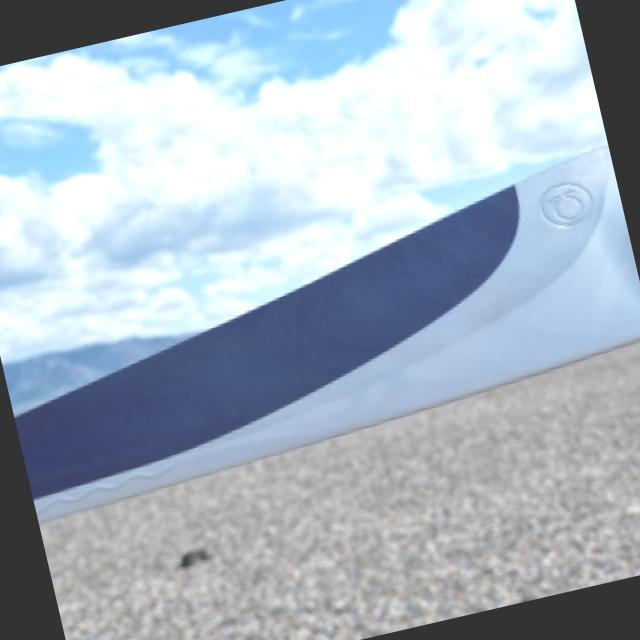healthy: (16, 146, 640, 516)
